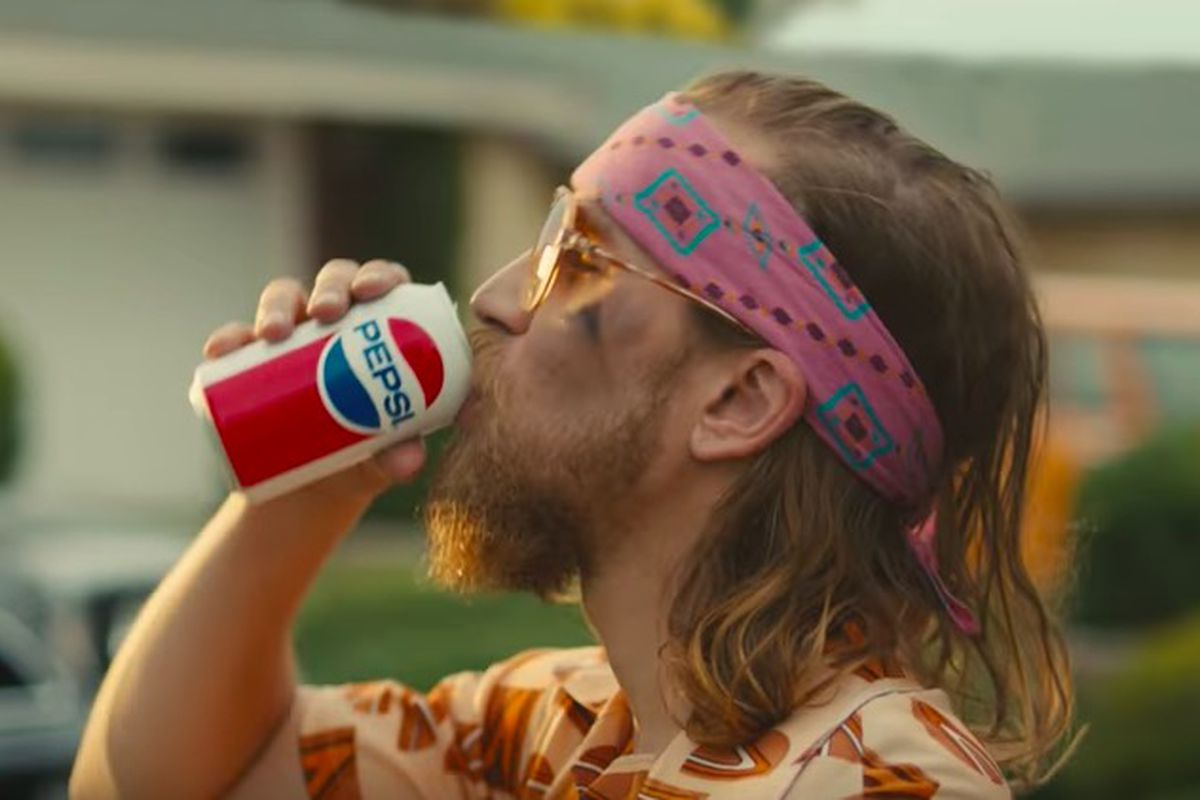pepsi: (324, 314, 441, 424)
